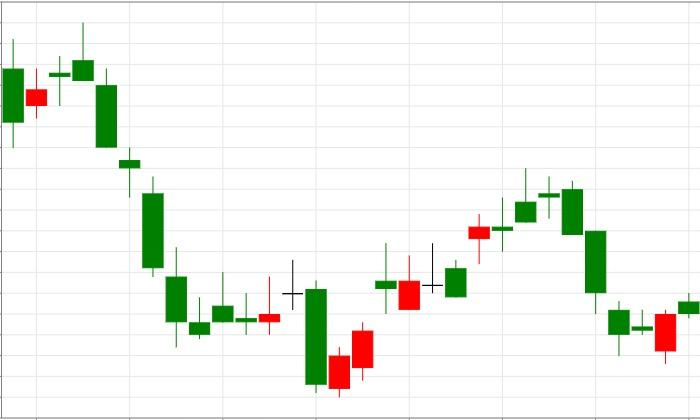bullish_engulfing_rise: (538, 176, 677, 364)
three_black_crows_fall: (328, 168, 630, 398), (3, 22, 140, 198)
